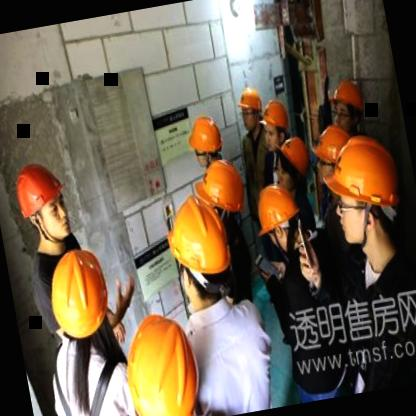helmet: (322, 126, 410, 250), (113, 309, 209, 416), (160, 192, 237, 310), (39, 242, 119, 348), (9, 156, 79, 248), (189, 154, 255, 229), (252, 178, 304, 256), (309, 118, 358, 191), (326, 70, 370, 135), (184, 110, 230, 172), (269, 132, 316, 192), (256, 96, 292, 150), (233, 85, 268, 139)
